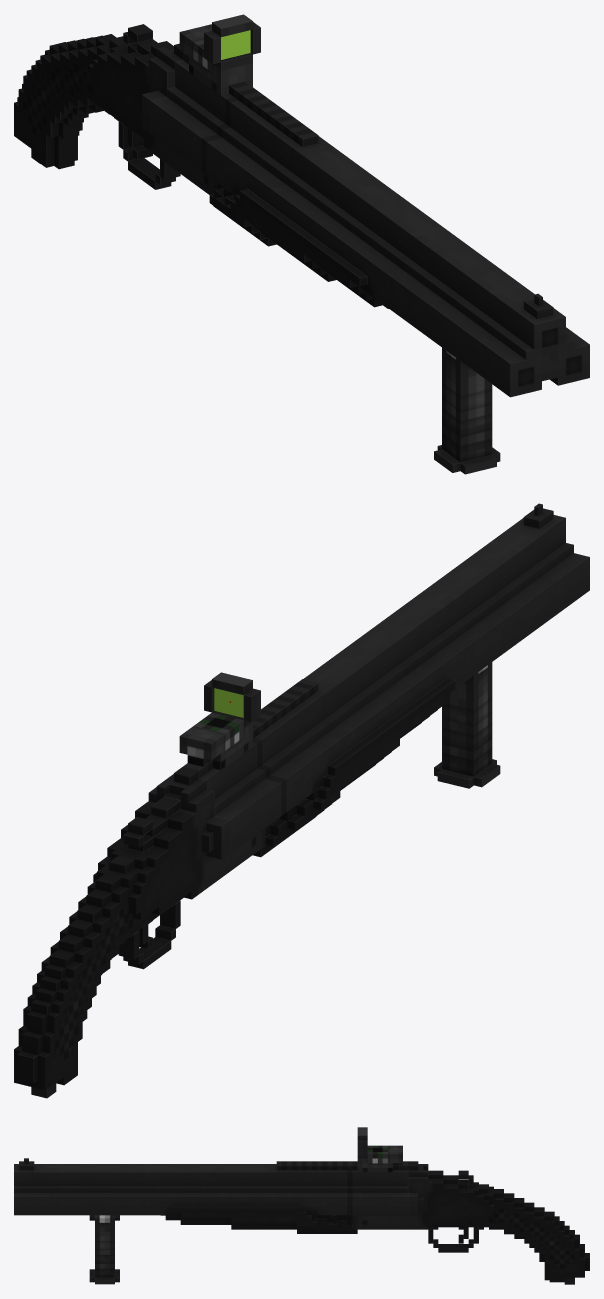
The model's file is RD_HONCHO.glb.
3 views of the same model, one above another, from view 1: azimuth 30°, elevation 25°; view 2: azimuth 150°, elevation 25°; view 3: azimuth 270°, elevation 25° (orthographic). The views are drawn at different scales.
Parts seen in each view (by area): view 1: HONCHO_TRIPLE_BARREL, HONCHO_TRIPLE, GRIP1, SCOPE_AIMPOINT; view 2: HONCHO_TRIPLE_BARREL, HONCHO_TRIPLE, GRIP1, SCOPE_AIMPOINT; view 3: HONCHO_TRIPLE_BARREL, HONCHO_TRIPLE, GRIP1, SCOPE_AIMPOINT.
Boxes of the visible parts, x1=… form: HONCHO_TRIPLE_BARREL: x1=151, y1=51, x2=589, y2=397; HONCHO_TRIPLE: x1=14, y1=24, x2=213, y2=194; GRIP1: x1=434, y1=348, x2=500, y2=474; SCOPE_AIMPOINT: x1=179, y1=14, x2=260, y2=95; HONCHO_TRIPLE_BARREL: x1=183, y1=503, x2=589, y2=857; HONCHO_TRIPLE: x1=14, y1=766, x2=260, y2=1098; GRIP1: x1=434, y1=662, x2=500, y2=788; SCOPE_AIMPOINT: x1=179, y1=672, x2=260, y2=770; HONCHO_TRIPLE_BARREL: x1=14, y1=1158, x2=407, y2=1233; HONCHO_TRIPLE: x1=357, y1=1161, x2=589, y2=1284; GRIP1: x1=89, y1=1215, x2=119, y2=1284; SCOPE_AIMPOINT: x1=357, y1=1127, x2=402, y2=1172.
Bounding box in the file's own units: 0.1181 × 0.3247 × 1.12.
4 materials, 4 textured.
